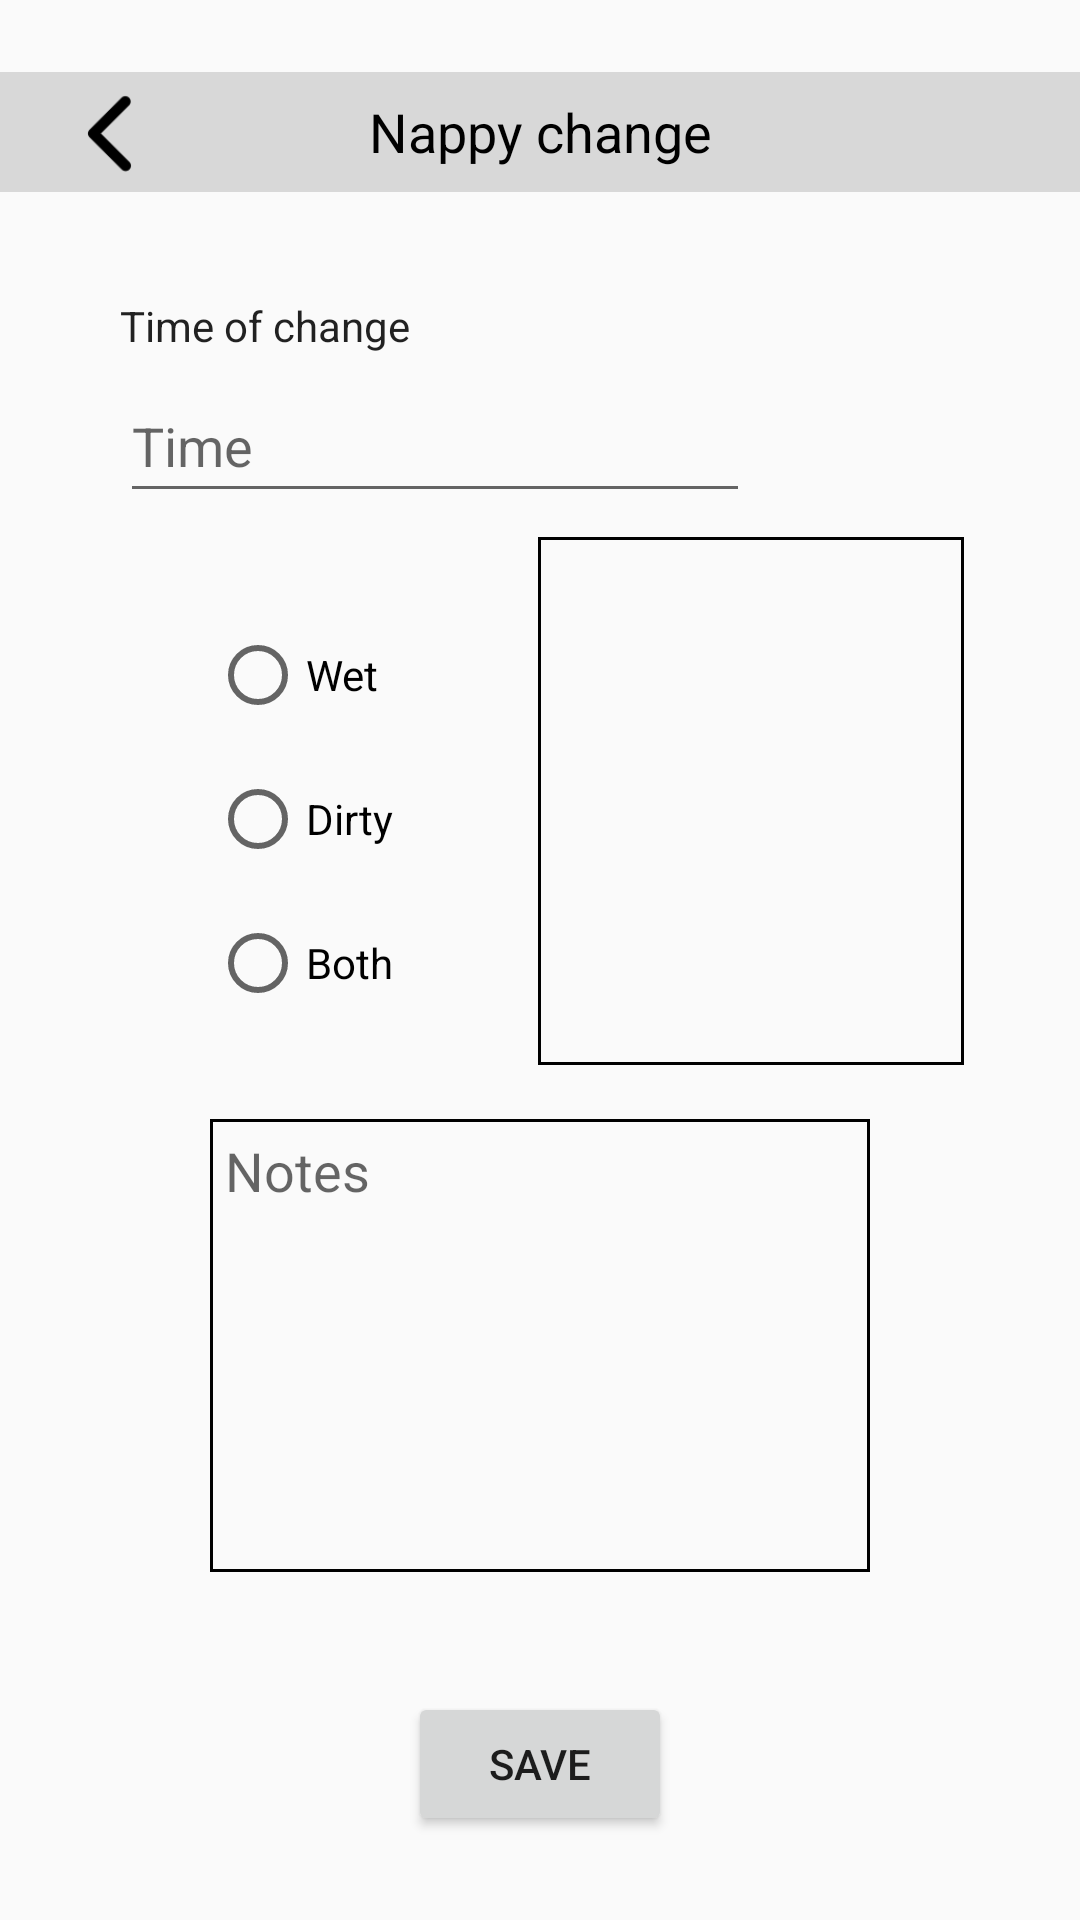

Where icons sit on this 1080w x 1920h app screen, as (x1, y1, x2, y2):
left: (30, 72, 189, 192)
